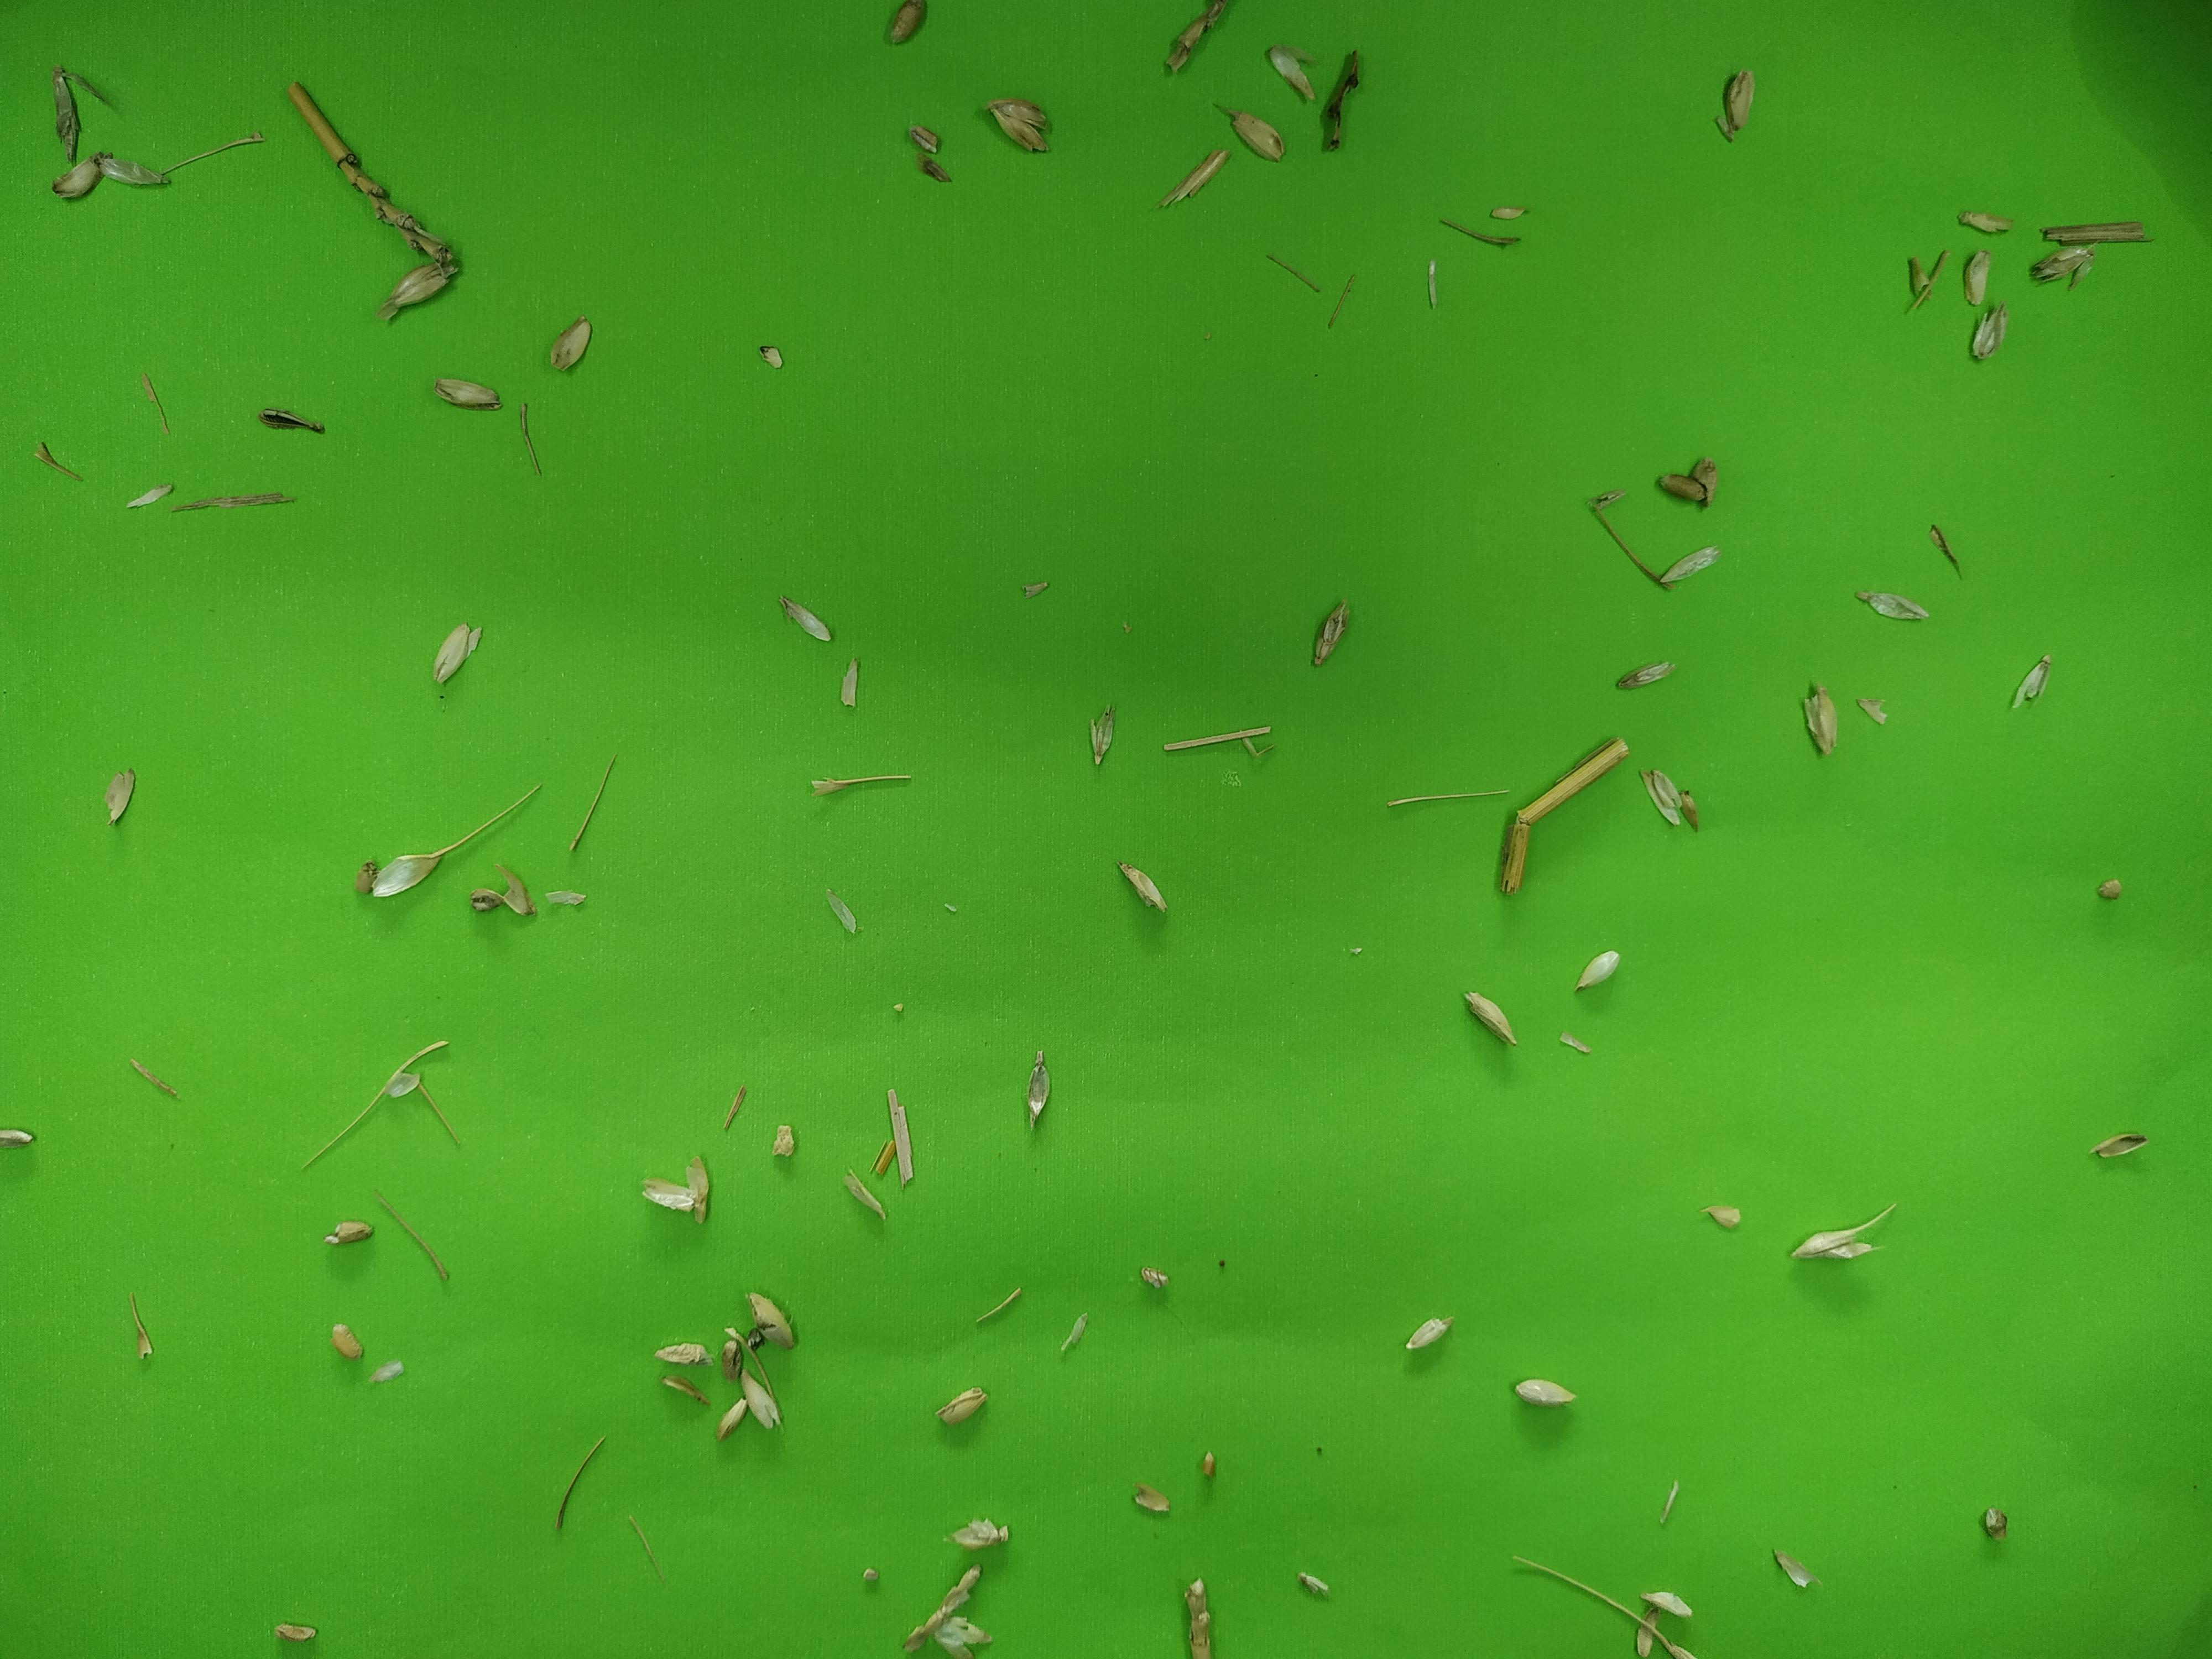bueno: (1653, 467, 1707, 507)
impureza: (287, 80, 456, 265), (1494, 735, 1632, 896), (373, 779, 542, 897), (1508, 1554, 1642, 1619), (371, 1185, 448, 1288), (900, 1560, 984, 1654), (1594, 507, 1683, 594), (291, 1091, 380, 1175), (1785, 1202, 1900, 1267), (552, 1429, 610, 1535), (157, 131, 273, 176), (1158, 0, 1224, 78), (568, 744, 617, 850), (1320, 45, 1366, 155), (378, 265, 462, 324), (171, 484, 307, 519), (1157, 145, 1231, 207), (1212, 101, 1285, 164), (1160, 723, 1277, 760), (803, 767, 920, 803), (883, 1086, 921, 1195), (984, 94, 1050, 157), (1895, 242, 1947, 321), (2038, 216, 2160, 249), (1851, 582, 1933, 629), (773, 587, 840, 645), (428, 619, 486, 685), (1306, 596, 1360, 666), (1714, 64, 1763, 141), (744, 1284, 799, 1351), (1963, 293, 2012, 368), (45, 58, 80, 162), (1381, 788, 1519, 814), (1796, 676, 1839, 758), (543, 307, 594, 376), (1437, 213, 1527, 251), (430, 368, 503, 415), (1460, 986, 1515, 1047), (420, 1079, 467, 1150), (1505, 1371, 1581, 1415), (1116, 854, 1170, 915), (92, 146, 171, 188), (496, 856, 543, 925), (1017, 1056, 1059, 1134), (1641, 765, 1689, 831), (622, 1511, 664, 1588), (1264, 40, 1318, 99), (516, 396, 552, 481), (833, 1166, 888, 1222), (129, 1058, 186, 1112), (2006, 648, 2055, 711), (2029, 247, 2095, 293), (939, 1513, 1010, 1554), (1658, 537, 1721, 584), (738, 1368, 784, 1432), (42, 153, 98, 206), (1261, 253, 1331, 295), (928, 1382, 988, 1431), (1395, 1310, 1461, 1352), (1571, 943, 1625, 993), (254, 403, 327, 439), (125, 1291, 162, 1364), (639, 1173, 709, 1211), (136, 371, 178, 434), (648, 1335, 721, 1370), (30, 439, 84, 486), (970, 1283, 1024, 1330), (1615, 655, 1681, 694), (932, 1617, 993, 1657), (685, 1154, 718, 1225), (101, 763, 138, 828), (1183, 1574, 1212, 1652), (70, 64, 124, 106), (1325, 268, 1362, 329), (660, 1371, 711, 1415), (1085, 699, 1120, 762), (1057, 1305, 1097, 1359), (1642, 1588, 1696, 1628), (1689, 453, 1723, 514), (1925, 521, 1959, 579), (392, 1033, 449, 1068), (1961, 247, 1993, 308), (324, 1319, 364, 1364), (1670, 786, 1707, 835), (887, 0, 928, 42), (1768, 1551, 1813, 1589), (122, 477, 174, 511), (719, 1080, 749, 1138), (376, 1066, 425, 1101), (869, 1133, 902, 1183), (2092, 1131, 2148, 1161), (824, 887, 859, 934), (1629, 1605, 1660, 1657), (904, 120, 946, 159), (1130, 1480, 1172, 1518), (1855, 687, 1892, 730), (836, 653, 862, 714), (1416, 258, 1447, 308), (1954, 209, 2010, 237), (1655, 1473, 1684, 1525), (326, 1216, 374, 1248), (716, 1392, 749, 1438), (268, 1619, 319, 1647), (1480, 197, 1531, 225), (1017, 573, 1055, 610), (350, 863, 387, 901), (1975, 1504, 2010, 1544), (909, 155, 956, 185), (1292, 1568, 1332, 1601), (721, 1330, 747, 1380), (770, 1121, 801, 1162), (538, 884, 590, 908), (1580, 484, 1625, 512), (1702, 1202, 1743, 1232), (2090, 873, 2128, 904), (1136, 1262, 1170, 1295), (368, 1356, 406, 1385), (752, 343, 792, 371), (1191, 1445, 1219, 1483), (1554, 1026, 1590, 1054), (467, 890, 505, 917), (0, 1124, 37, 1150), (859, 1563, 883, 1589)
